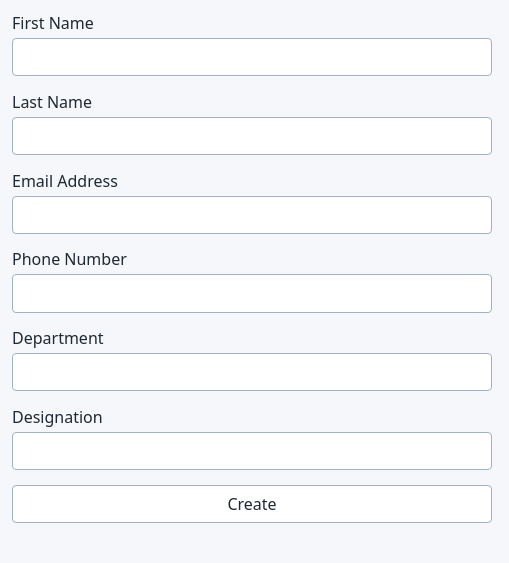
Test: UserForm › shows "A user with this email already exists." on a 409 response
Type "John" into the field labelled "First Name" at (252, 57), box top-left (12, 38), bottom-right (492, 76)
Type "Doe" into the field labelled "Last Name" at (252, 136), box top-left (12, 117), bottom-right (492, 155)
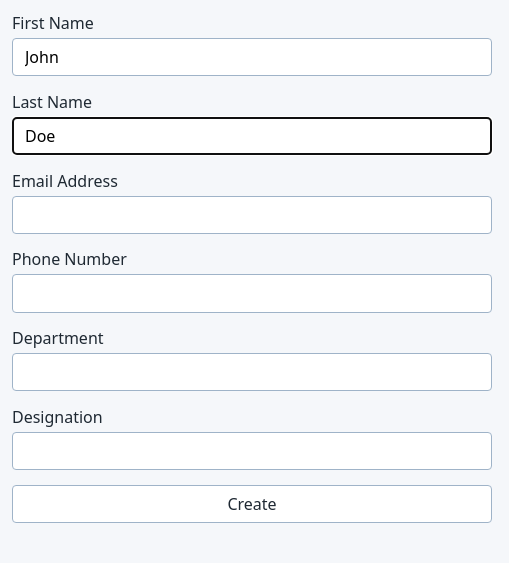
Type "john@example.com" into the field labelled "Email Address" at (252, 215), box top-left (12, 196), bottom-right (492, 234)
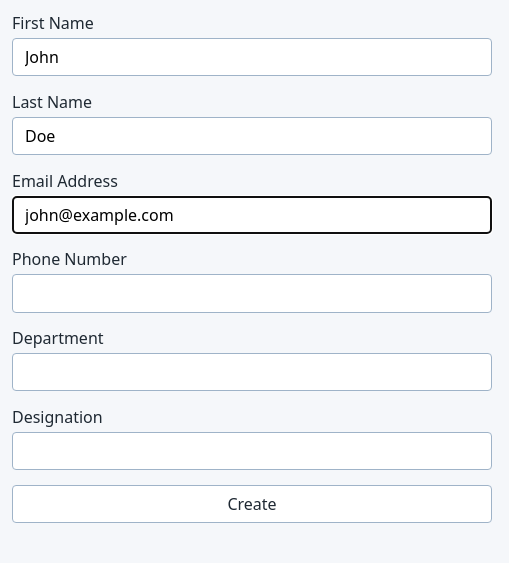
Type "+911234567890" into the field labelled "Phone Number" at (252, 294), box top-left (12, 274), bottom-right (492, 313)
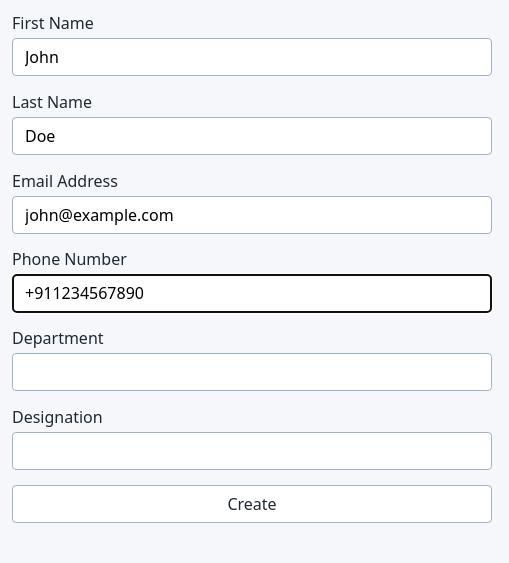
Type "Engineering" into the field labelled "Department" at (252, 372), box top-left (12, 353), bottom-right (492, 392)
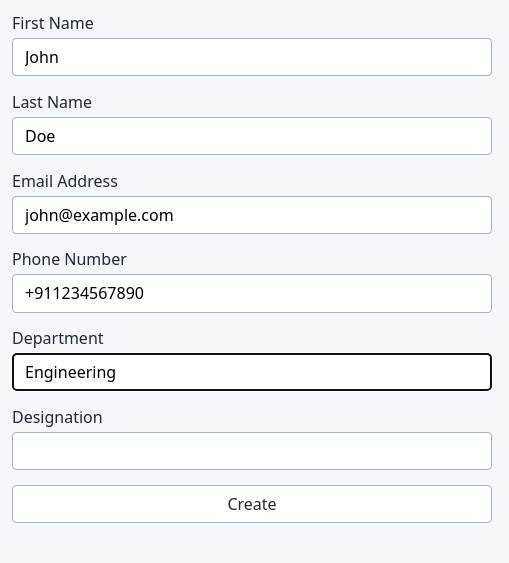
Type "Engineer" into the field labelled "Designation" at (252, 451), box top-left (12, 432), bottom-right (492, 470)
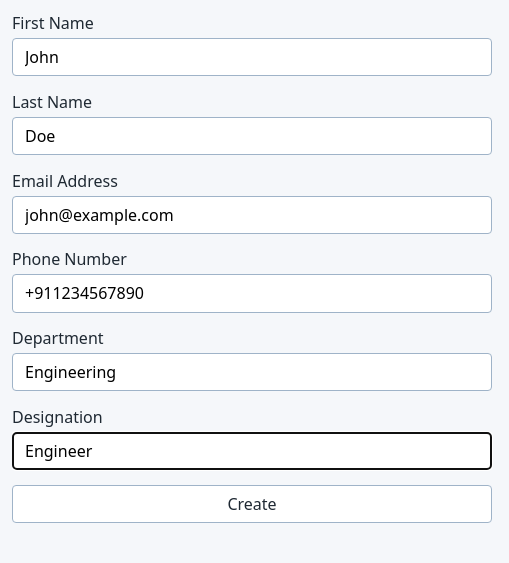
Click the button "Create" at (252, 504), box top-left (12, 485), bottom-right (492, 523)
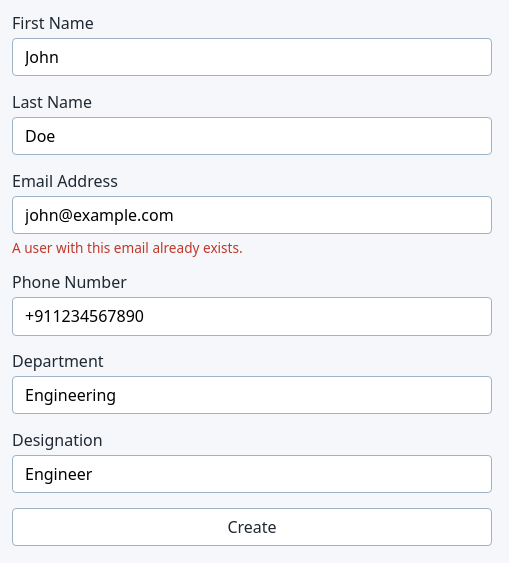
Check: the text "A user with this email already exists." is shown, box top-left (12, 238), bottom-right (243, 257)
